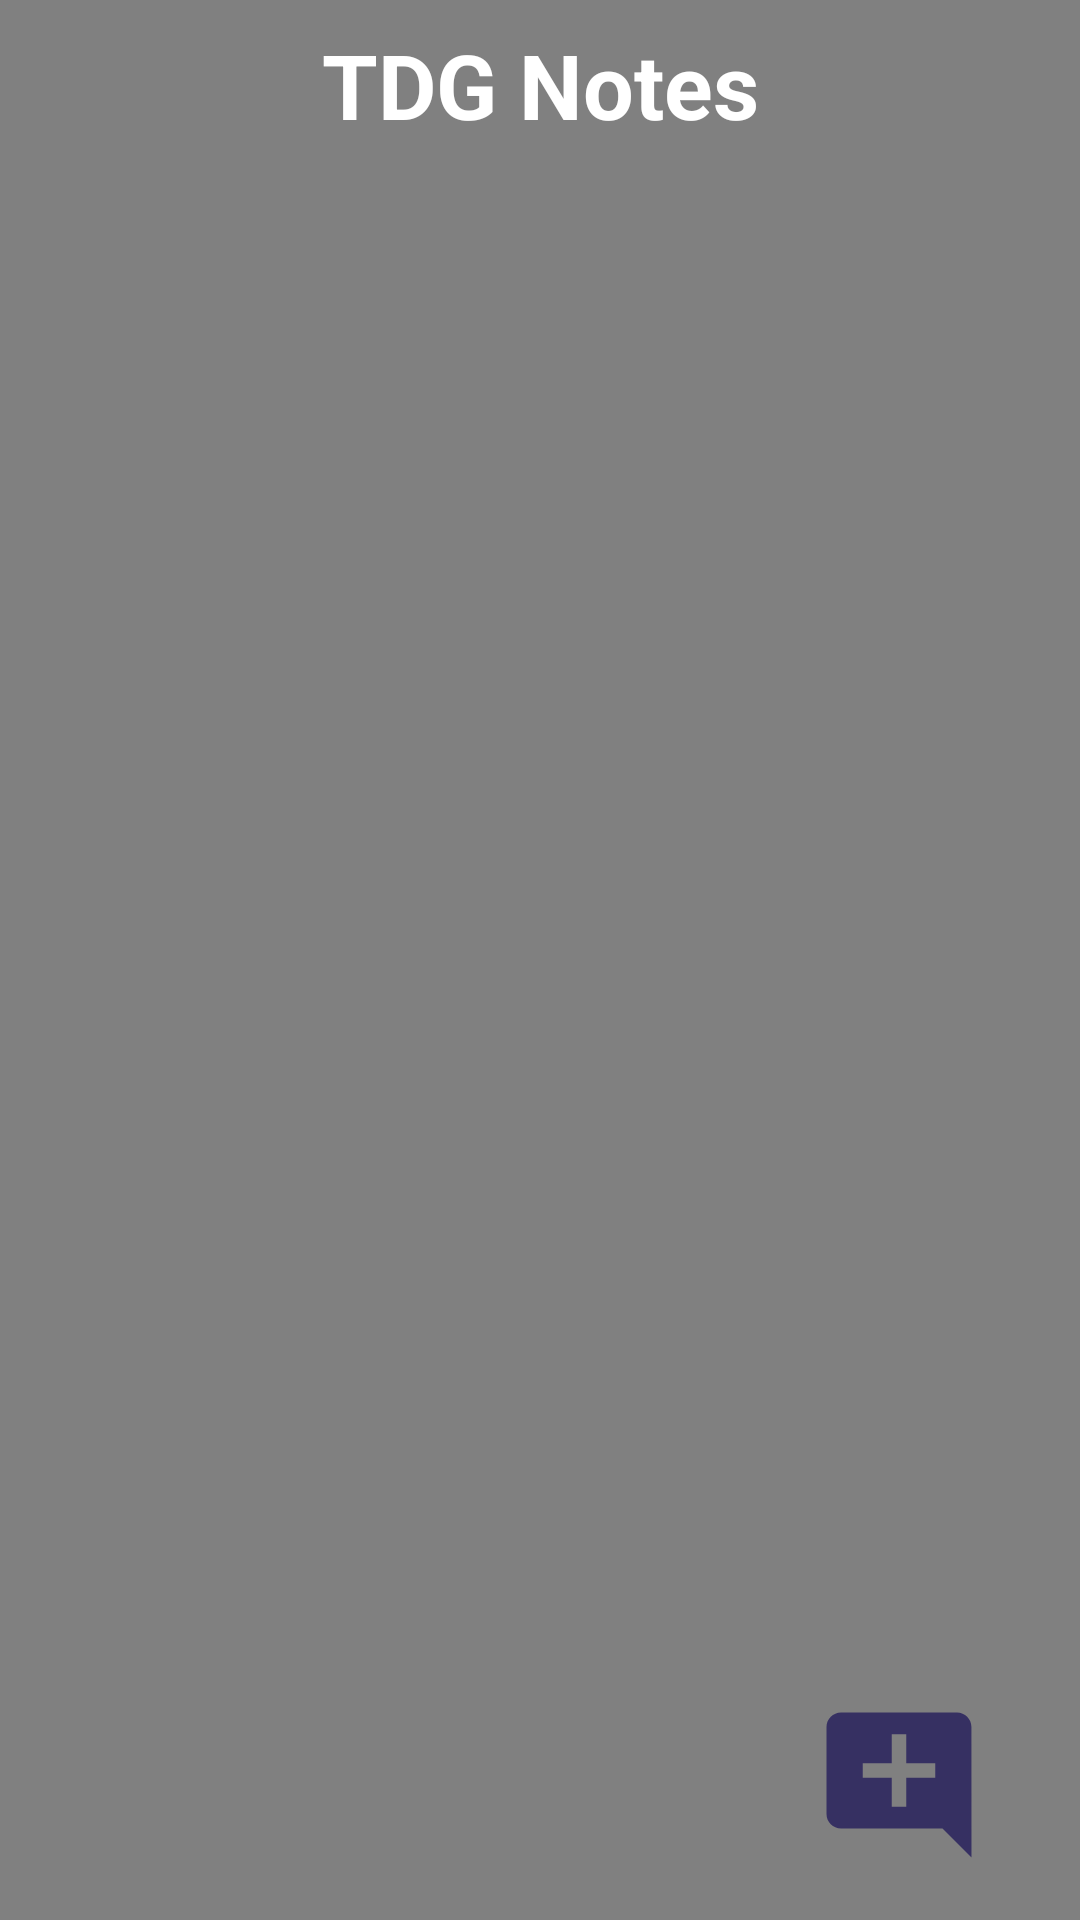

Icons on this 1080w x 1920h Android screen, each with its box as (left=x1, top=y1, right=x2, bottom=y2):
add: (left=826, top=1712, right=972, bottom=1857)
